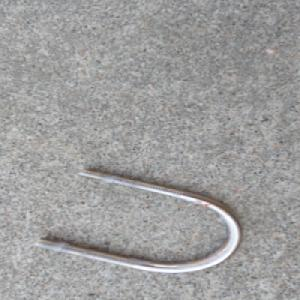ClampPart: (33, 167, 247, 274)
